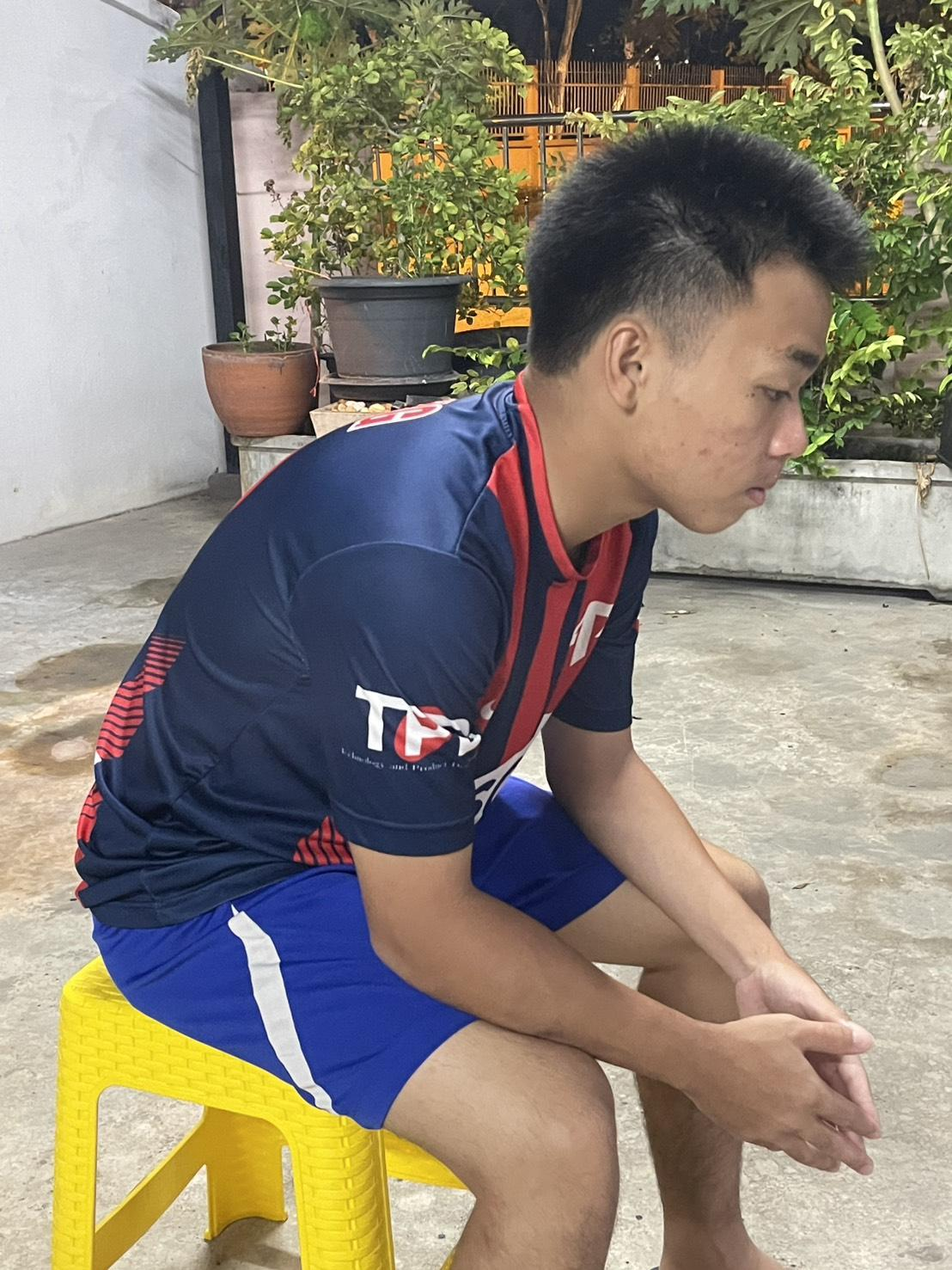BadPosture: (75, 125, 881, 1177)
